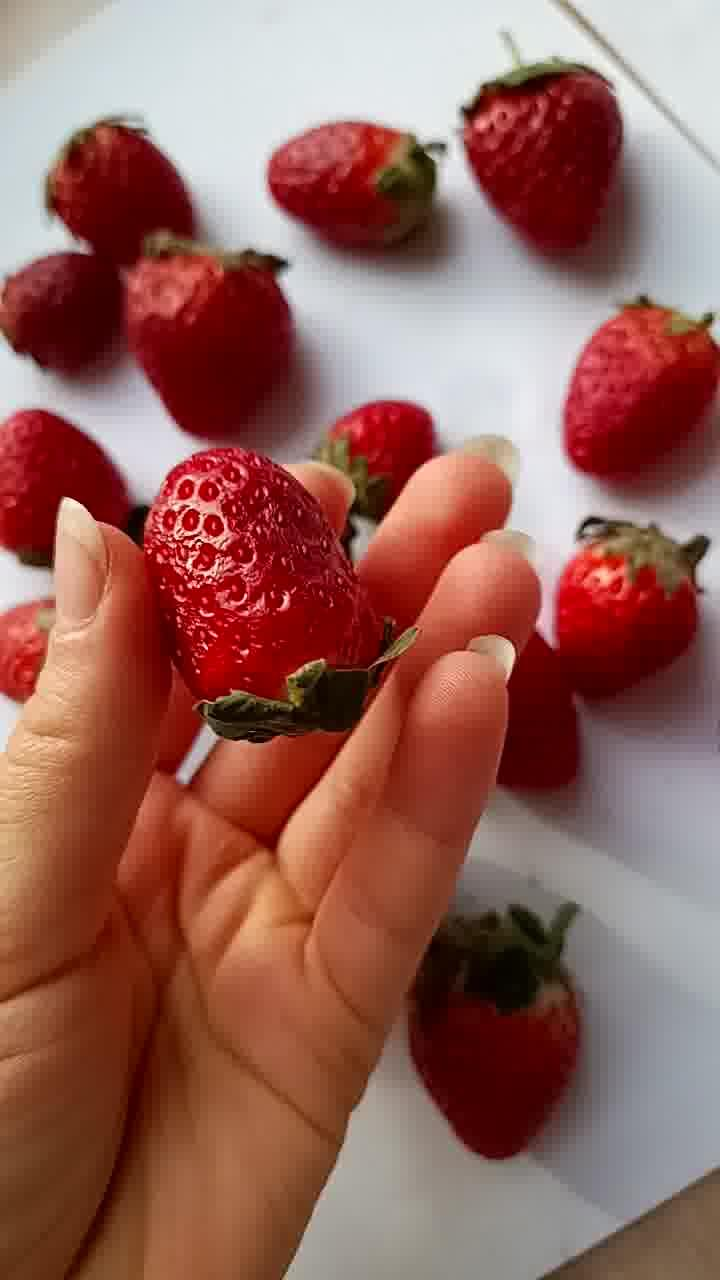strawberry: (403, 948, 587, 1160), (128, 243, 301, 447), (463, 63, 621, 255), (558, 300, 720, 482), (550, 526, 702, 700), (266, 120, 444, 250), (48, 120, 203, 266), (0, 410, 126, 562), (498, 618, 587, 806), (8, 255, 119, 368), (326, 403, 434, 509), (0, 600, 62, 700)
